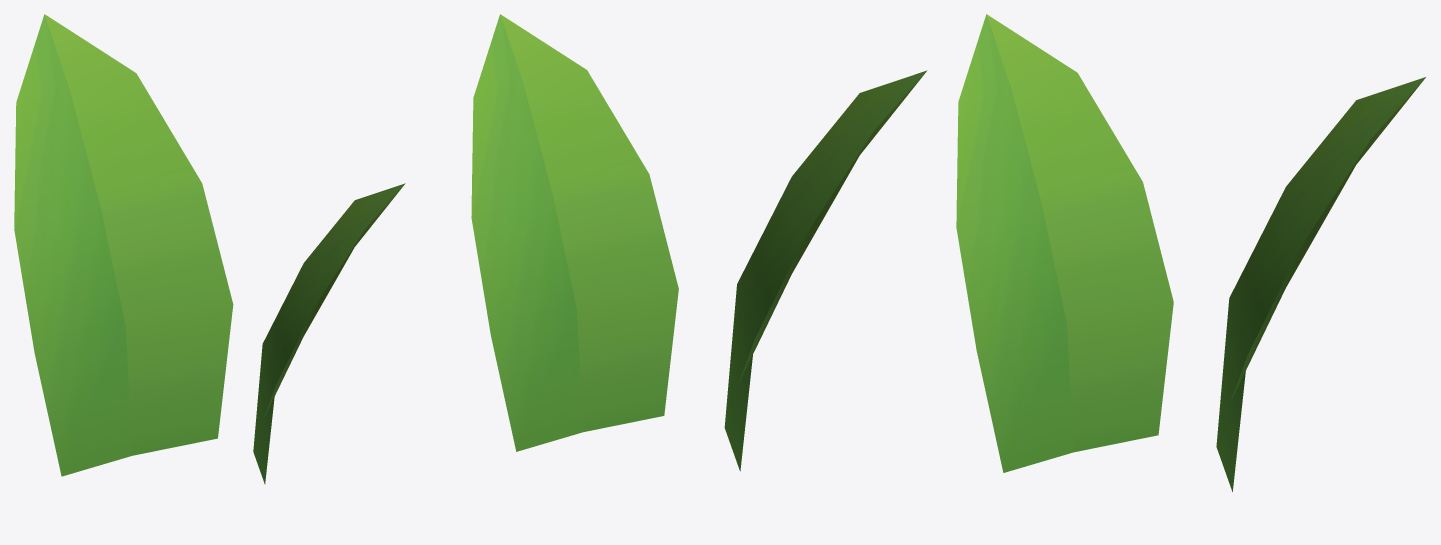
The model's file is grass_1_b_singlesided_color1.3a9f3396.glb.
3 views of the same model, side by side, from view 1: azimuth 30°, elevation 25°; view 2: azimuth 150°, elevation 25°; view 3: azimuth 270°, elevation 25° (orthographic). The views are drawn at different scales.
Visible parts, largest first — view 1: Grass_1_B_Singlesided_Color1; view 2: Grass_1_B_Singlesided_Color1; view 3: Grass_1_B_Singlesided_Color1.
Boxes of the visible parts, box(x1,y1,x2,y2) form: Grass_1_B_Singlesided_Color1: box(14, 14, 405, 484); Grass_1_B_Singlesided_Color1: box(471, 14, 927, 471); Grass_1_B_Singlesided_Color1: box(956, 14, 1425, 491).
Size of the model in its own units: 0.512 by 0.5202 by 0.5327.
Materials: 1 (1 with a texture image).
